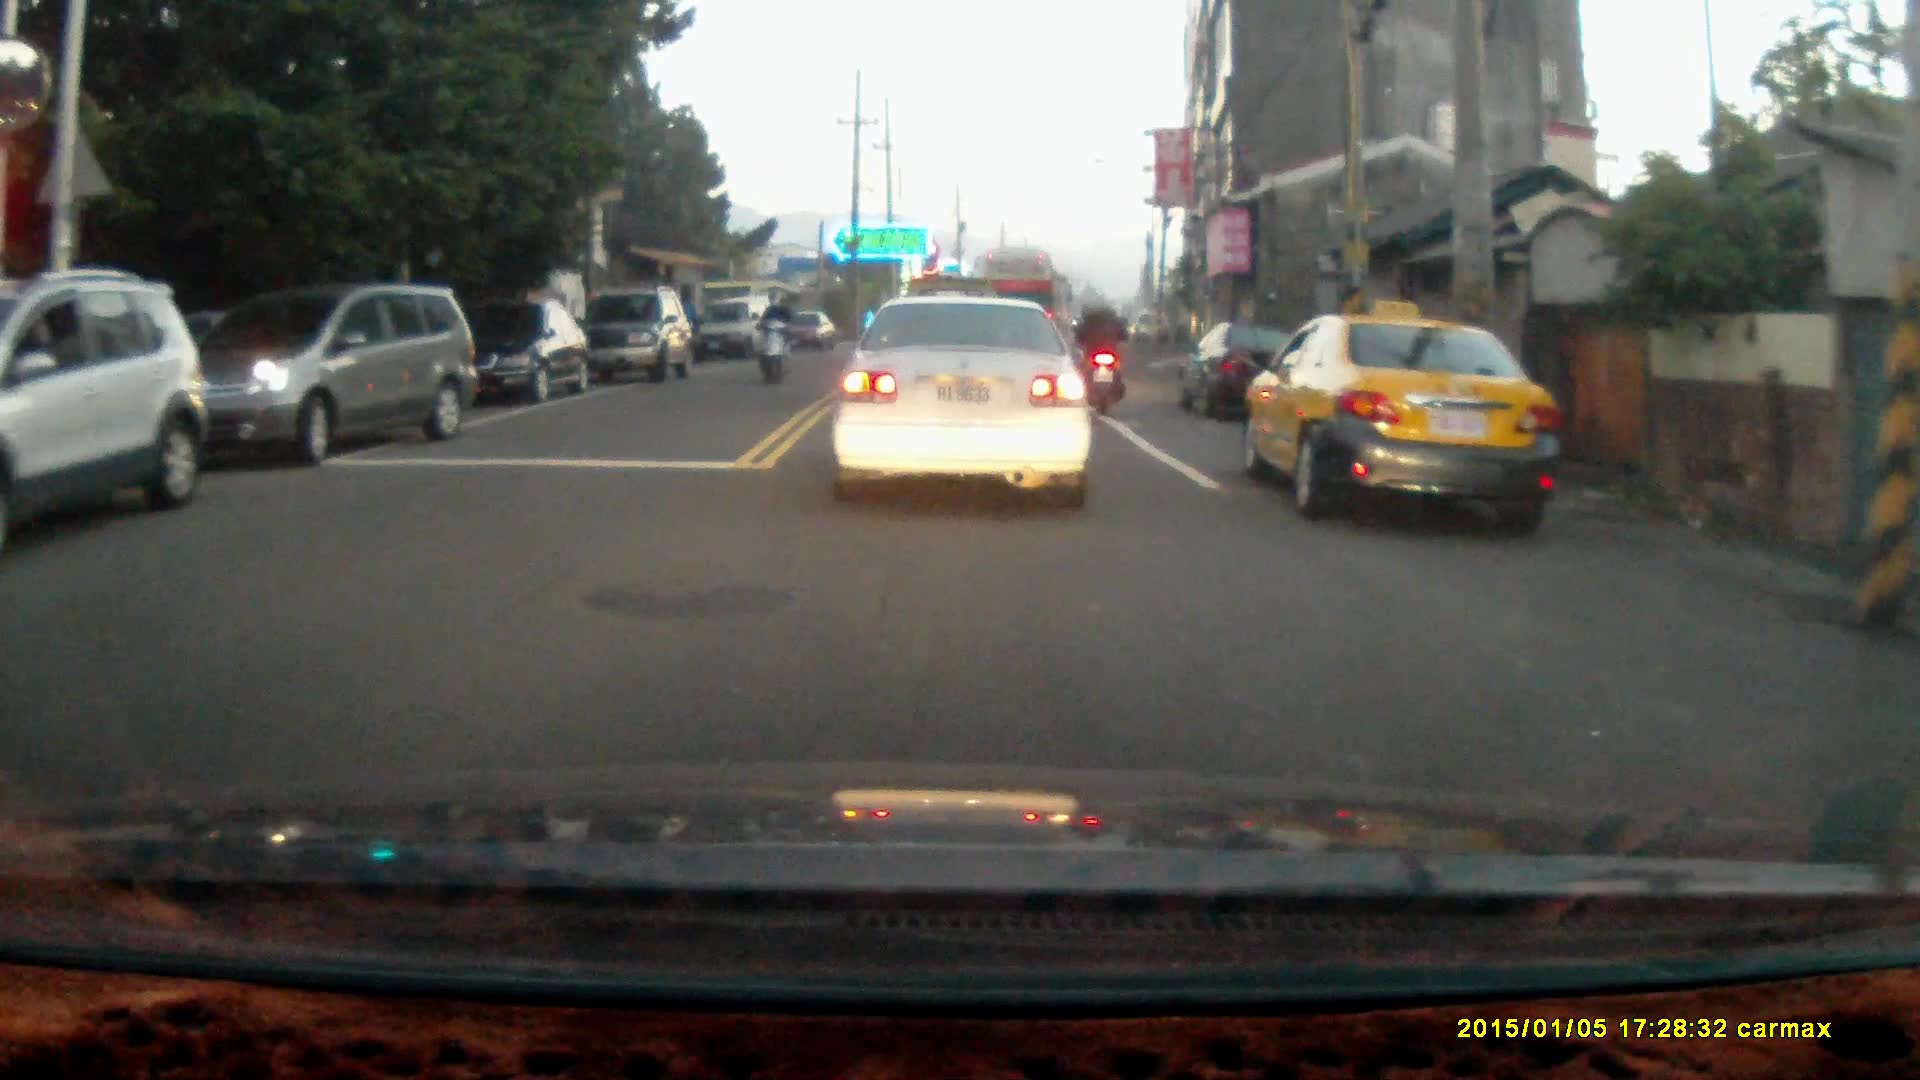rider: (1074, 288, 1133, 417), (753, 286, 790, 383)
vehicle: (1248, 314, 1564, 539), (832, 285, 1108, 501), (174, 278, 476, 466), (1, 263, 209, 529), (461, 295, 592, 404), (583, 284, 694, 379), (704, 290, 786, 357)
